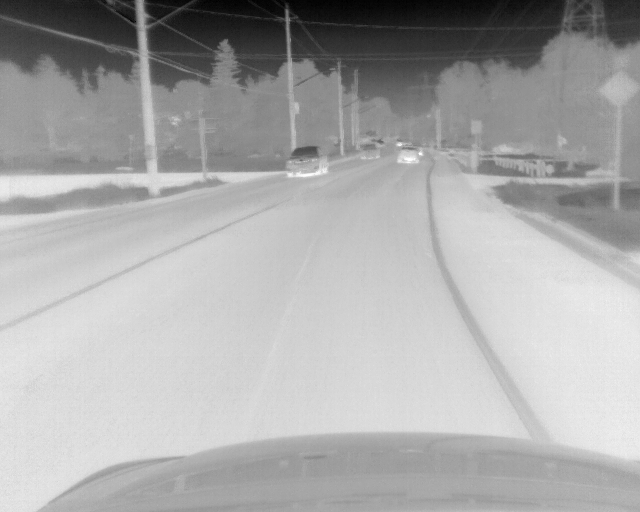car: (285, 146, 328, 177), (360, 143, 381, 160), (396, 148, 418, 164), (395, 140, 407, 148)
